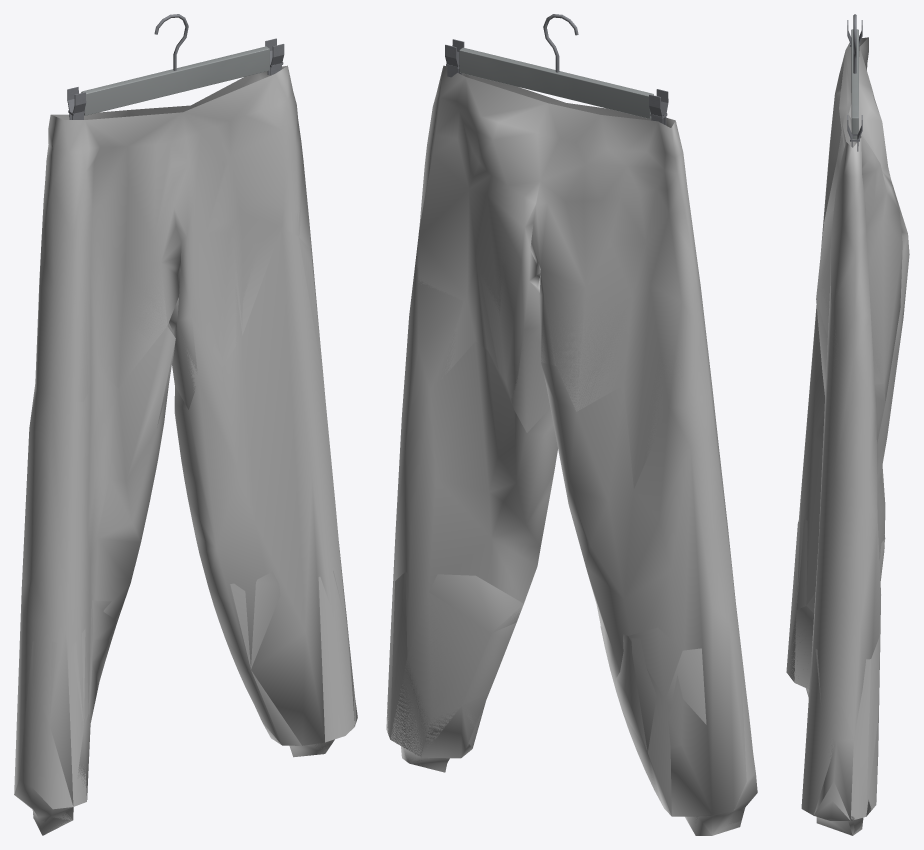
The model's file is sweatpants.FBX.
3 renders of one model, left to right at view 1: azimuth 30°, elevation 25°; view 2: azimuth 150°, elevation 25°; view 3: azimuth 270°, elevation 25°, orthographic. The views are drawn at different scales.
Parts seen in each view (by area): view 1: sweatpants_LOD0, _Hanger-2_LOD0; view 2: sweatpants_LOD0, _Hanger-2_LOD0; view 3: sweatpants_LOD0, _Hanger-2_LOD0.
Part boxes in pixels (left/top/right/bottom): sweatpants_LOD0: left=14, top=65, right=357, bottom=835; _Hanger-2_LOD0: left=67, top=14, right=284, bottom=119; sweatpants_LOD0: left=386, top=65, right=757, bottom=835; _Hanger-2_LOD0: left=445, top=14, right=668, bottom=125; sweatpants_LOD0: left=786, top=37, right=909, bottom=835; _Hanger-2_LOD0: left=847, top=14, right=862, bottom=151.
Size of what is drawn, in the model's own units: 51.74 by 16.54 by 112.
